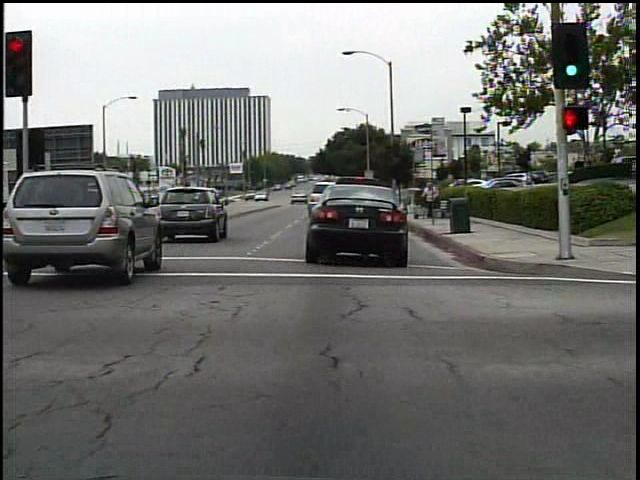person: (419, 178, 440, 223)
